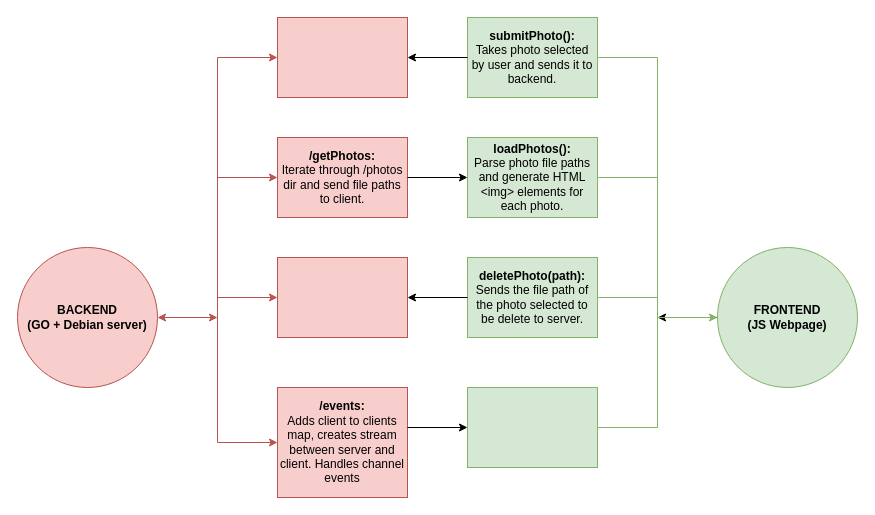
This 875x515 diagram has some shape labels left out. Each missing label, with the box of its shape:
/deletePhoto: Parse the photo path from client and delete file from /photos.: (276, 256, 408, 338)
/savePhoto: Parse json sent from client, save file to /photos.: (276, 16, 408, 98)
eventListener Listens / handles messages sent from backend.: (466, 386, 598, 468)
